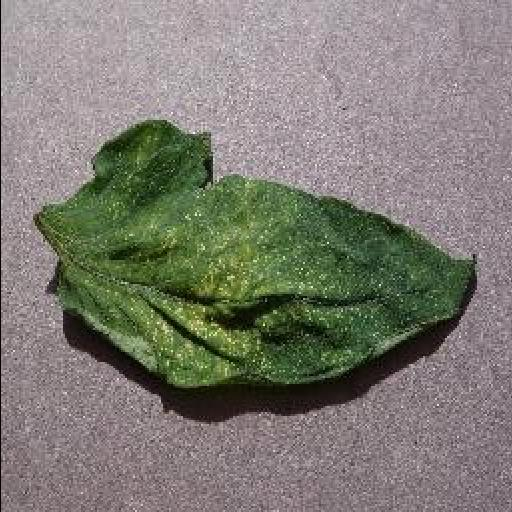disease_tomato: (35, 119, 477, 388)
